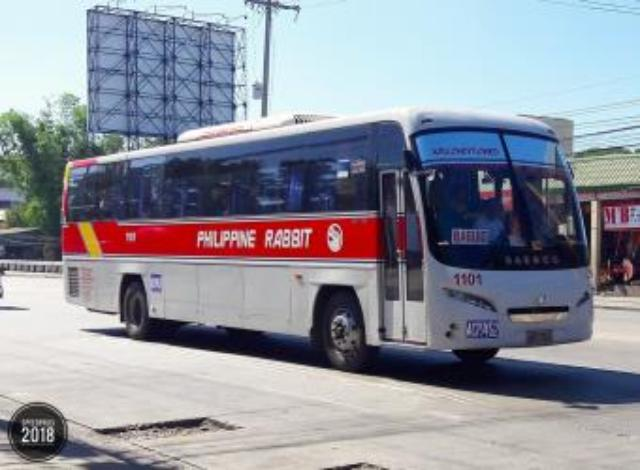bus: (63, 108, 591, 371)
